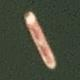ship: (0, 0, 3, 31)
